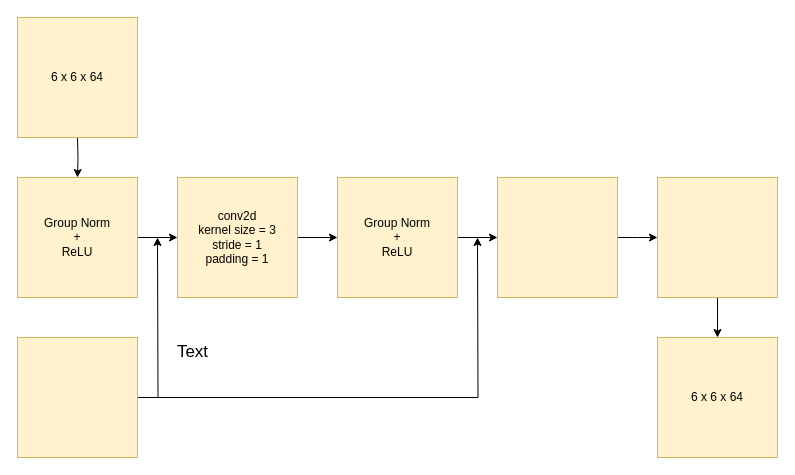
Some shapes in this 795 by 475 pixel diagram are drawn without their labels. The shapes that lost their labels are listed below. From the top down, each one's box as (x1, y1, x2, y2) in pixels, then its label:
(496, 176, 618, 298): conv2d kernel_size = 3 stride = 1 padding = 1
(656, 176, 778, 298): Group Norm
(16, 336, 138, 458): t channel 6 x 6 x 1
